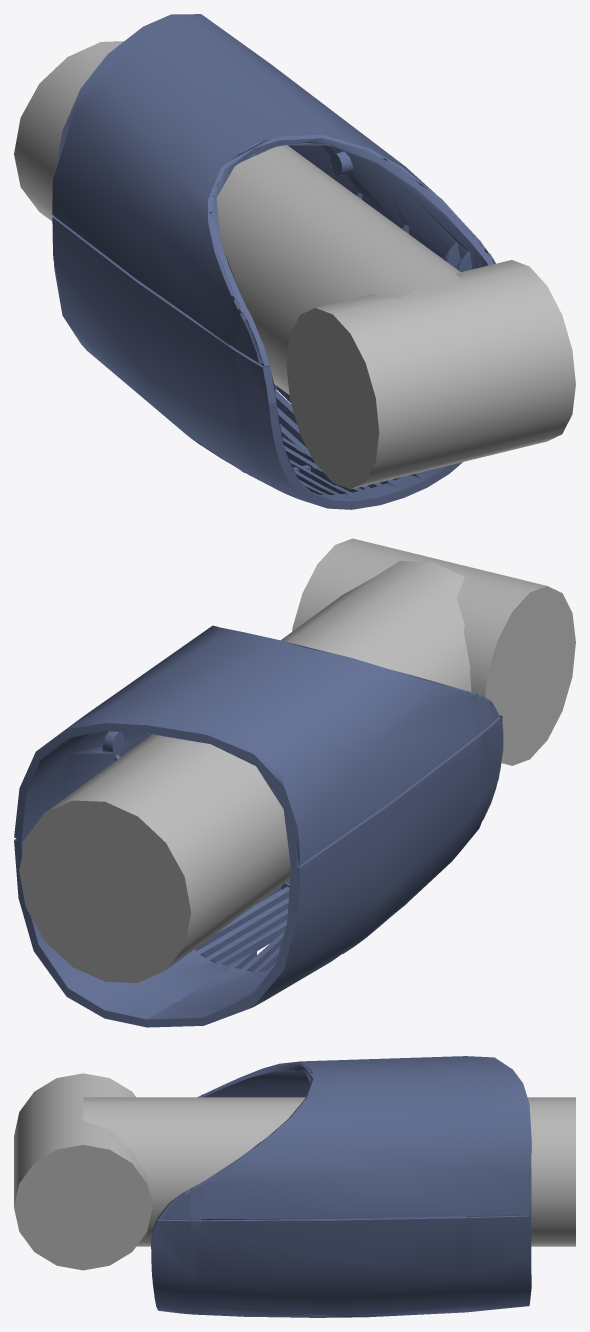
File: icub_r_upper_leg.glb
The picture shows the model from 3 angles, top to bottom: view 1: azimuth 30°, elevation 25°; view 2: azimuth 150°, elevation 25°; view 3: azimuth 270°, elevation 25°; orthographic projection. The views are drawn at different scales.
Visible parts, largest first — view 1: r_upperleg_mesh.001, r_thigh_cyl2_mesh, r_thigh_cyl1_mesh, r_upperleg_mesh, r_thigh_cyl2_mesh.001; view 2: r_thigh_cyl1_mesh, r_upperleg_mesh.001, r_upperleg_mesh, r_thigh_cyl2_mesh.001, r_thigh_cyl2_mesh; view 3: r_upperleg_mesh.001, r_upperleg_mesh, r_thigh_cyl1_mesh, r_thigh_cyl2_mesh.001, r_thigh_cyl2_mesh.
Boxes of the visible parts, x1,y1,x2,y2 form: r_upperleg_mesh.001: (52, 14, 495, 366); r_thigh_cyl2_mesh: (315, 260, 575, 489); r_thigh_cyl1_mesh: (14, 41, 463, 394); r_upperleg_mesh: (52, 216, 462, 509); r_thigh_cyl2_mesh.001: (286, 308, 379, 489); r_thigh_cyl1_mesh: (19, 561, 471, 982); r_upperleg_mesh.001: (14, 625, 499, 867); r_upperleg_mesh: (14, 715, 503, 1027); r_thigh_cyl2_mesh.001: (485, 586, 575, 765); r_thigh_cyl2_mesh: (292, 538, 546, 765); r_upperleg_mesh.001: (157, 1056, 531, 1221); r_upperleg_mesh: (151, 1214, 531, 1317); r_thigh_cyl1_mesh: (83, 1097, 575, 1246); r_thigh_cyl2_mesh.001: (14, 1145, 152, 1270); r_thigh_cyl2_mesh: (14, 1073, 152, 1206).
Bounding box in the file's own units: 0.1029 × 0.1178 × 0.2555.
